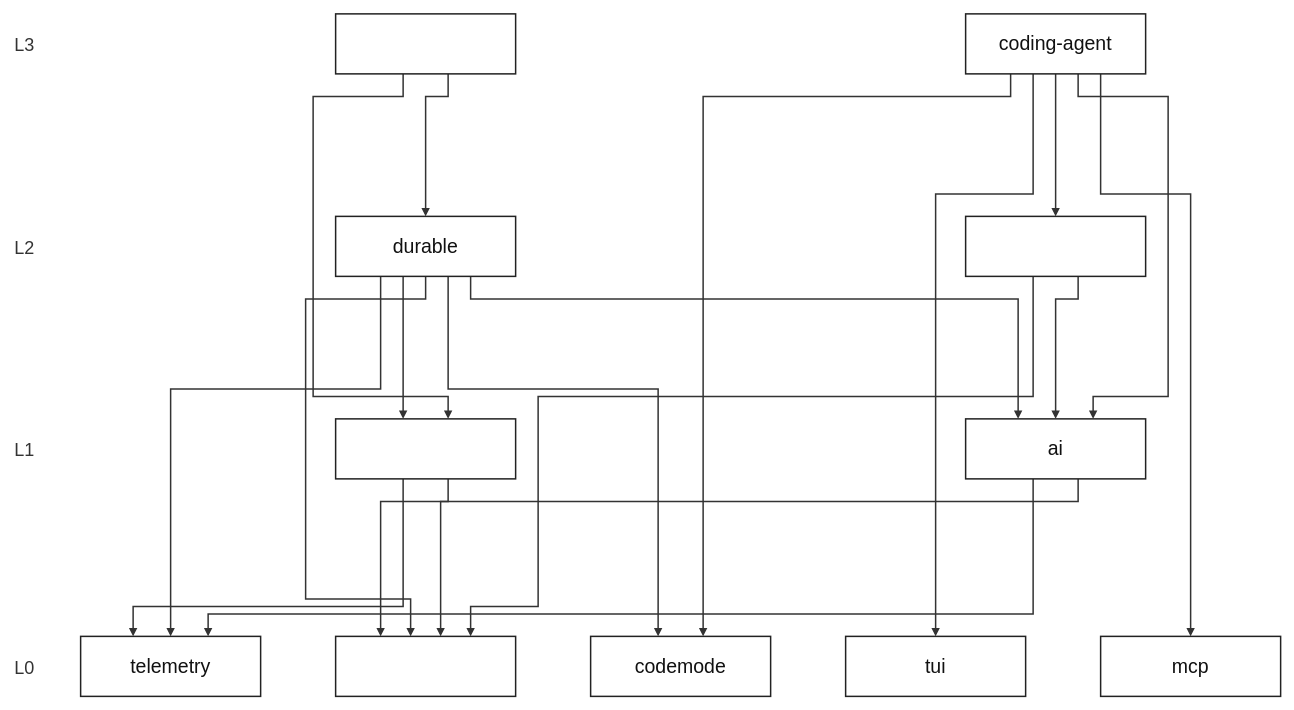
Image size: 1294x710. Some labels were removed from this diagram. The shapes that lost their labels are listed below. From the top down, each one's box as (x1, y1, x2, y2) in pixels, then its label:
(334, 13, 516, 74): env
(964, 215, 1146, 277): agent
(334, 418, 516, 479): chord
(334, 635, 516, 697): schema
